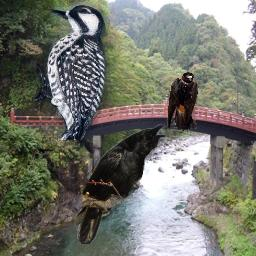Crow: (73, 122, 169, 244)
Swallow: (167, 72, 198, 131)
Woodpecker: (32, 0, 110, 140)
